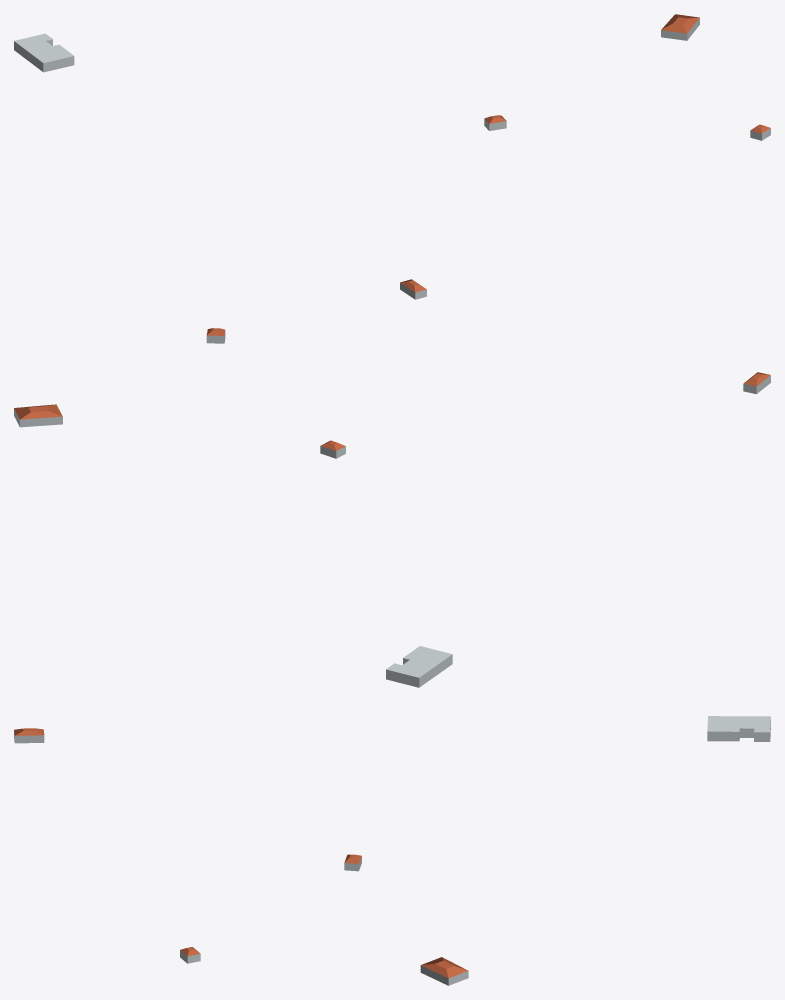
The model's file is msb_noord_m20_m13.glb.
The picture shows the model from 3 angles, top to bottom: view 1: azimuth 30°, elevation 25°; view 2: azimuth 150°, elevation 25°; view 3: azimuth 270°, elevation 25°; orthographic projection. The views are drawn at different scales.
Parts seen in each view (by area): view 1: msb_noord_m20_m13_lod0; view 2: msb_noord_m20_m13_lod0; view 3: msb_noord_m20_m13_lod0.
Boxes of the visible parts, left/top/right/bottom form: msb_noord_m20_m13_lod0: left=14, top=14, right=770, bottom=299; msb_noord_m20_m13_lod0: left=14, top=328, right=770, bottom=687; msb_noord_m20_m13_lod0: left=14, top=716, right=770, bottom=985.
Size of what is drawn, in the model's own units: 271 by 9.45 by 321.
